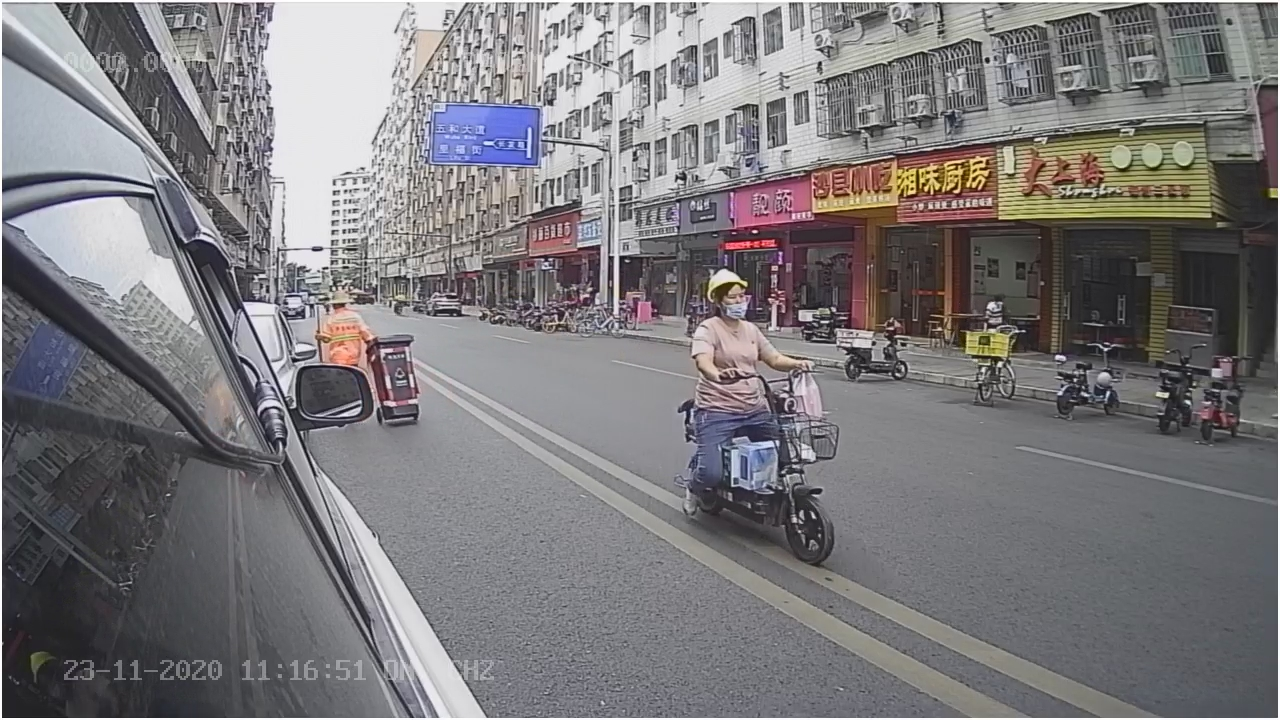person: (683, 263, 813, 371)
